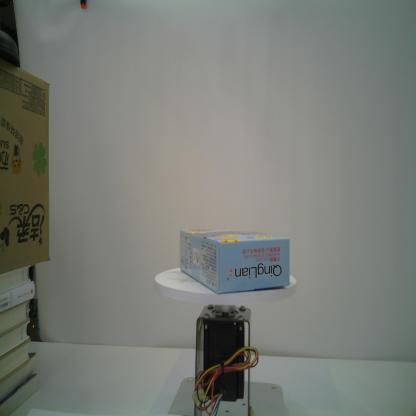Dessert: (179, 229, 290, 294)
